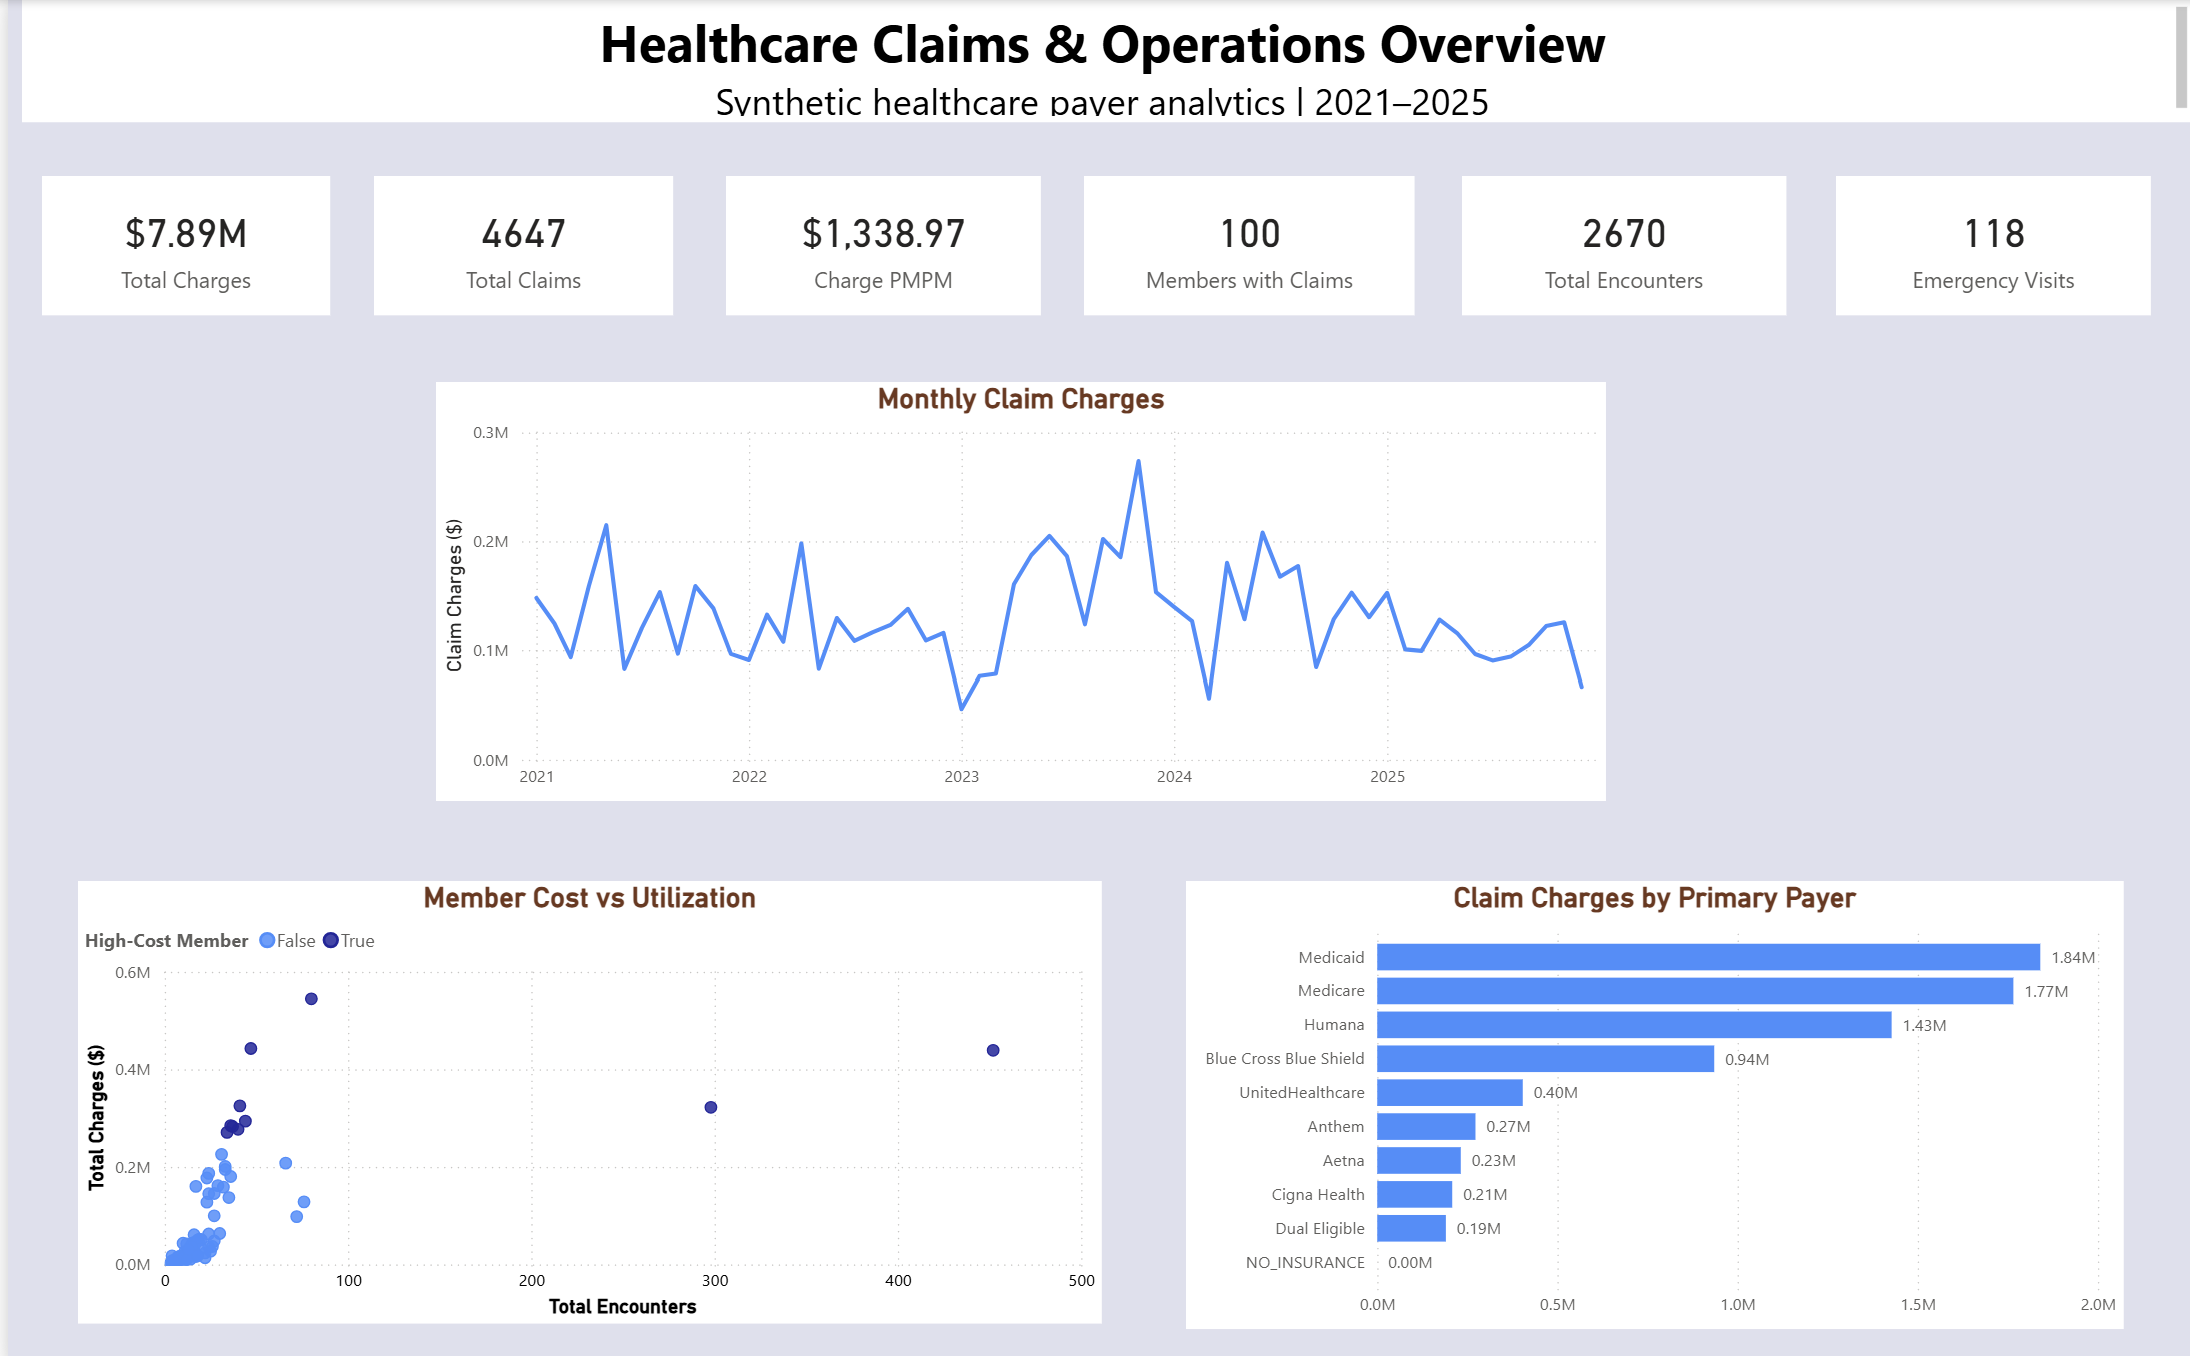

This screenshot's page, from the dashboard's own definition file:
{"tool":"powerbi","page":{"name":"Executive Overview","canvas":[1600,1000],"ordinal":0},"visuals":[{"type":"textbox","box":[10,0,1590,89.7],"z":0},{"type":"card","fields":{"Values":["KPI Measures.Total Charges"]},"box":[24.7,128.5,210.9,102.2],"z":1000},{"type":"card","fields":{"Values":["KPI Measures.Total Claims"]},"box":[268.6,128.5,219.2,102.2],"z":2000},{"type":"card","fields":{"Values":["KPI Measures.Charge PMPM"]},"box":[525.6,128.5,230.7,102.2],"z":3000},{"type":"card","fields":{"Values":["KPI Measures.Members with Claims"]},"box":[787.6,128.5,242.2,102.2],"z":4000},{"type":"card","fields":{"Values":["KPI Measures.Total Encounters"]},"box":[1064.5,128.5,237.3,102.2],"z":5000},{"type":"card","fields":{"Values":["KPI Measures.Emergency Visits"]},"box":[1338,128.5,230.7,102.2],"z":6000},{"type":"lineChart","title":"Monthly Claim Charges","fields":{"Y":["KPI Measures.Total Charges"],"Category":["Dim Date.month_start_date"]},"box":[313.9,279.5,856.7,305.8],"z":7000},{"type":"scatterChart","title":"Member Cost vs Utilization","fields":{"X":["Sum(Member Cost Utilization.total_encounters)"],"Y":["Sum(Member Cost Utilization.total_charges)"],"Category":["Member Cost Utilization.patient_id"],"Series":["Member Cost Utilization.high_cost_member_flag"]},"box":[50.6,644.1,749.4,324.1],"z":8000},{"type":"clusteredBarChart","title":"Claim Charges by Primary Payer","fields":{"Category":["Payer Performance.payer_name"],"Y":["Sum(Payer Performance.total_charges)"]},"box":[862.8,644.1,686.6,328.1],"z":9000}]}

Visuals, with their boxes in screenshot pixels (x1, y1, x2, y2), scaled from the page's 1600x1000 canvas onto the 2190x1356 screenshot:
textbox: l=14, t=0, r=2189, b=122
card - KPI Measures.Total Charges: l=34, t=174, r=322, b=313
card - KPI Measures.Total Claims: l=368, t=174, r=668, b=313
card - KPI Measures.Charge PMPM: l=719, t=174, r=1035, b=313
card - KPI Measures.Members with Claims: l=1078, t=174, r=1410, b=313
card - KPI Measures.Total Encounters: l=1457, t=174, r=1782, b=313
card - KPI Measures.Emergency Visits: l=1831, t=174, r=2147, b=313
"Monthly Claim Charges" lineChart: l=430, t=379, r=1602, b=794
"Member Cost vs Utilization" scatterChart: l=69, t=873, r=1095, b=1313
"Claim Charges by Primary Payer" clusteredBarChart: l=1181, t=873, r=2121, b=1318
